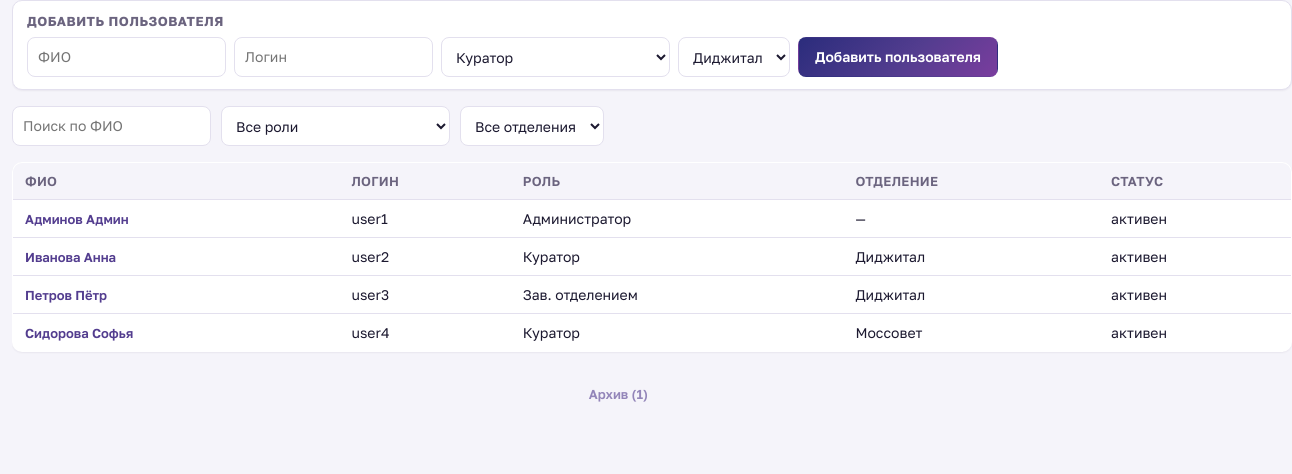
Test: UsersTab — создание › создаёт пользователя и сразу показывает выданный пароль
Check: the link "Иванова Анна" is shown, box [21,247,120,267]
In the field with placeholder "ФИО": (126, 57) [27,37,226,77], type "Новая Нина"
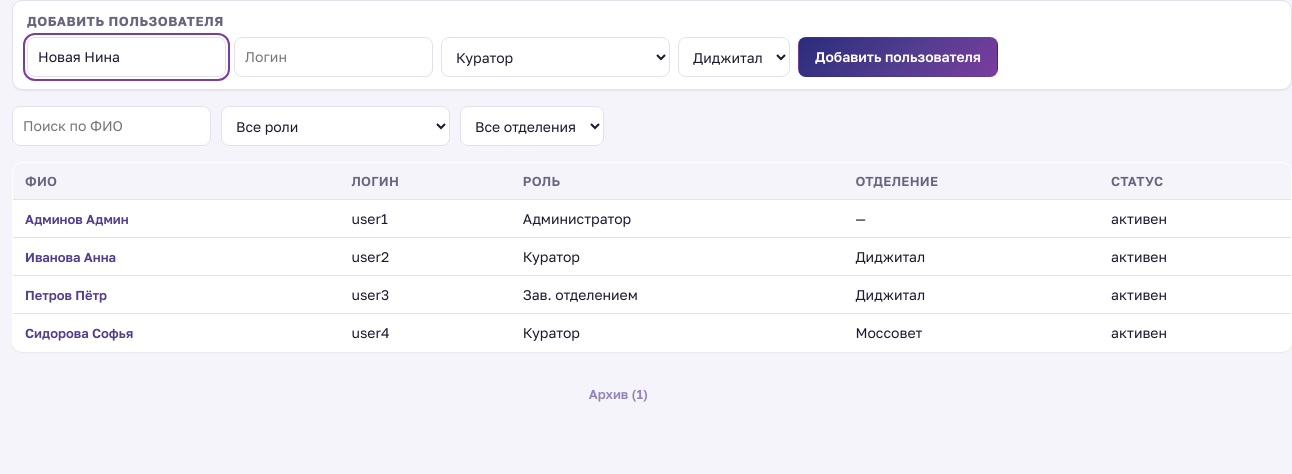
In the field with placeholder "Логин": (334, 57) [234,37,433,77], type "nina"
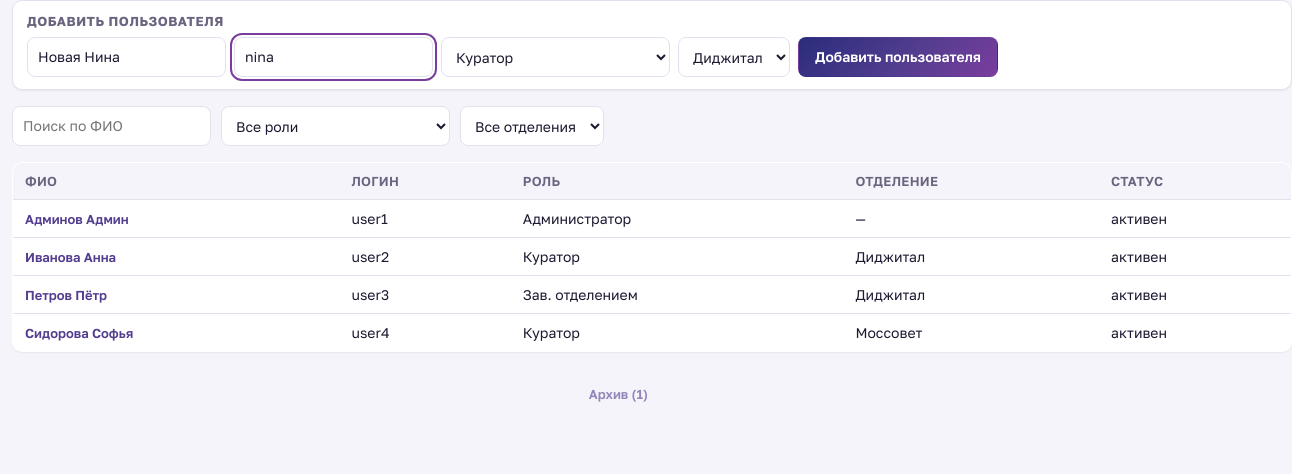
Click the button "Добавить пользователя": (898, 57) [798,37,998,77]
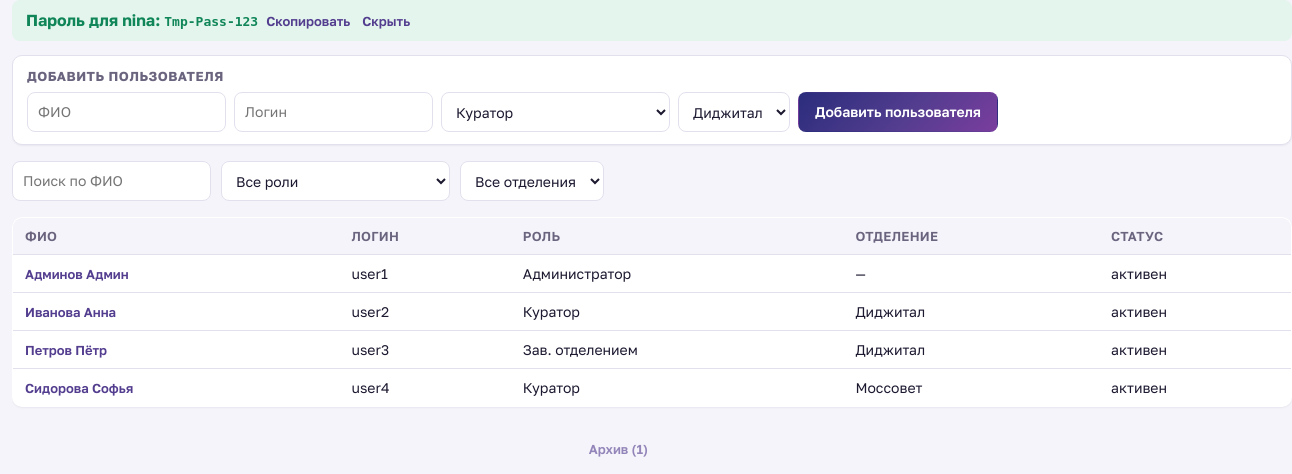
Check: the text "Tmp-Pass-123" is shown, box [164,14,258,29]
Check: the field with placeholder "ФИО" is empty, box [27,92,226,132]
